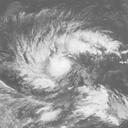cyclone: (15, 34, 78, 90)
